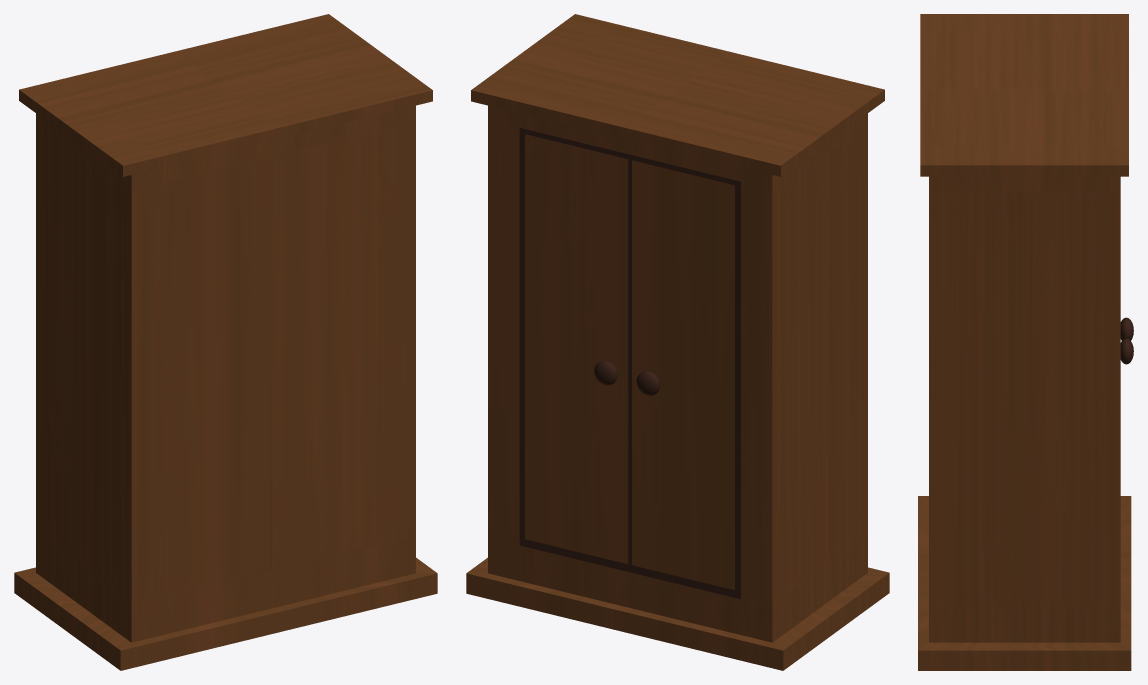
File: dresser.obj
3 renders of one model, left to right at view 1: azimuth 30°, elevation 25°; view 2: azimuth 150°, elevation 25°; view 3: azimuth 270°, elevation 25°, orthographic.
Visible parts, largest first — view 1: dresser; view 2: dresser; view 3: dresser.
Part boxes in pixels (x1,y1,x2,y2): dresser: (14,14,437,670); dresser: (466,14,889,670); dresser: (918,14,1133,670).
Size of what is drawn, in the model's own units: 3.82 by 5.81 by 2.25.
1 material, 1 textured.
